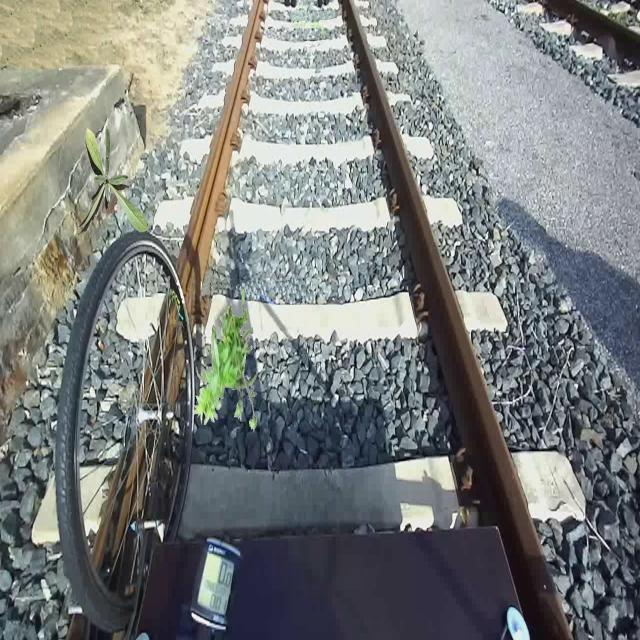Plant: (194, 289, 258, 432), (76, 127, 148, 235)
